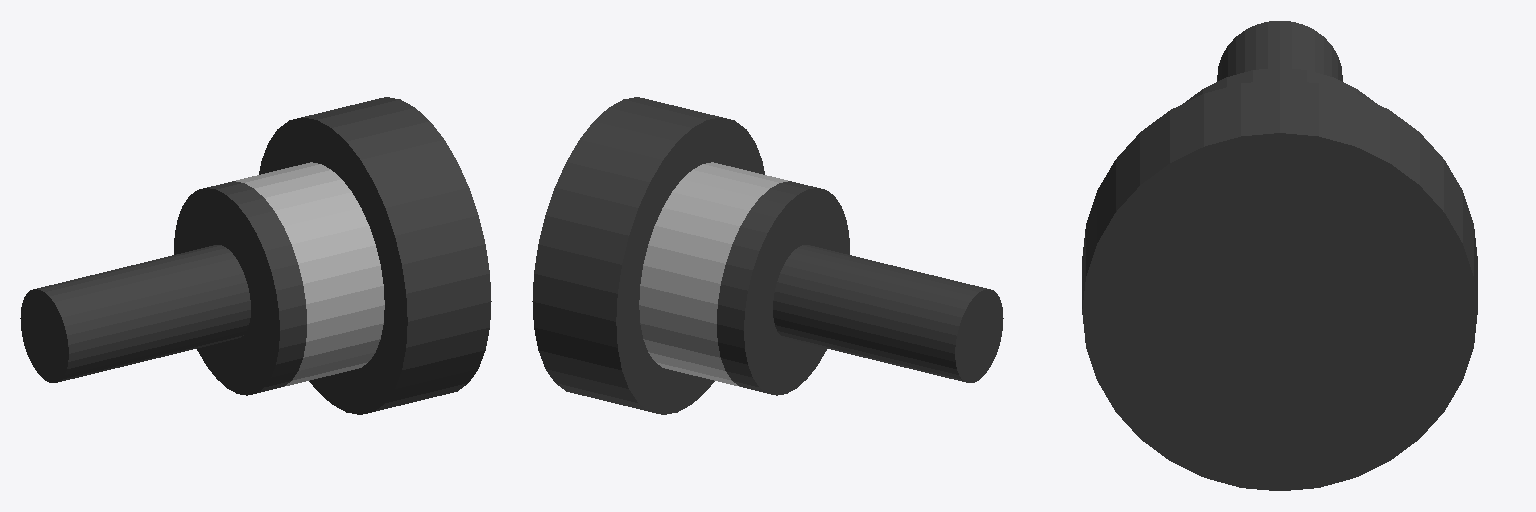
URDF robot description (panda):
<?xml version="1.0" ?>
<!-- =================================================================================== -->
<!-- |    This document was autogenerated by xacro from panda_arm_hand.urdf.xacro      | -->
<!-- |    EDITING THIS FILE BY HAND IS NOT RECOMMENDED                                 | -->
<!-- =================================================================================== -->
<robot name="panda" xmlns:xacro="http://www.ros.org/wiki/xacro">
  <link name="panda_link0">
  	<inertial>
      <origin rpy="0 0 0" xyz="0 0 0"/>
       <mass value="5.0"/>
       <inertia ixx="0.1" ixy="0" ixz="0" iyy="0.1" iyz="0" izz="0.1"/>
    </inertial>
    <visual>
      <geometry>
        <mesh filename="package://meshes/collision/link0.obj"/>
      </geometry>
      <material name="panda_white">
    		<color rgba="1. 1. 1. 1."/>
  		</material>
    </visual>
    <collision>
      <geometry>
        <mesh filename="package://meshes/collision/link0.obj"/>
      </geometry>
    </collision>
  </link>
  <link name="panda_link1">
  	<inertial>
      <origin rpy="0 0 0" xyz="0.00033 -0.02204 -0.04762"/>
       <mass value="2.7907"/>
       <inertia ixx="0.01564782655" ixy="0.00000531236" ixz="-0.00003676721" iyy="0.01439883526" iyz="-0.00248480843" izz="0.00500443991"/>
    </inertial>
    <visual>
      <geometry>
        <mesh filename="package://meshes/visual/link1.obj"/>
      </geometry>
      <material name="panda_white"/>
    </visual>
    <collision>
      <geometry>
        <mesh filename="package://meshes/collision/link1.obj"/>
      </geometry>
    </collision>
  </link>
  <link name="panda_link2">
  	<inertial>
      <origin rpy="0 0 0" xyz="0.00038 -0.09211 0.01908"/>
       <mass value="2.5420"/>
       <inertia ixx="0.01662427728" ixy="0.00003086077" ixz="0.00000835940" iyy="0.00462501261" iyz="0.00355899830" izz="0.01545124526"/>
    </inertial>
    <visual>
      <geometry>
        <mesh filename="package://meshes/visual/link2.obj"/>
      </geometry>
      <material name="panda_white"/>
    </visual>
    <collision>
      <geometry>
        <mesh filename="package://meshes/collision/link2.obj"/>
      </geometry>
    </collision>
  </link>
  <link name="panda_link3">
	  <inertial>
      <origin rpy="0 0 0" xyz="0.05152 0.01696 -0.02971"/>
       <mass value="2.2513"/>
       <inertia ixx="0.00631741992" ixy="0.00097309955" ixz="0.00292525834" iyy="0.00866285493" iyz="0.00093469224" izz="0.00657804051"/>
    </inertial>
    <visual>
      <geometry>
        <mesh filename="package://meshes/visual/link3.obj"/>
      </geometry>
      <material name="panda_red">
    		<color rgba="1. 1. 1. 1."/>
  		</material>
    </visual>
    <collision>
      <geometry>
        <mesh filename="package://meshes/collision/link3.obj"/>
      </geometry>
    </collision>
  </link>
  <link name="panda_link4">
  	<inertial>
      <origin rpy="0 0 0" xyz="-0.05113 0.05825 0.01698"/>
       <mass value="2.2037"/>
       <inertia ixx="0.0156" ixy="-0.0" ixz="0.0" iyy="0.01439" iyz="-0.0024" izz="0.005"/>
    </inertial>
    <visual>
      <geometry>
        <mesh filename="package://meshes/visual/link4.obj"/>
      </geometry>
      <material name="panda_white"/>
    </visual>
    <collision>
      <geometry>
        <mesh filename="package://meshes/collision/link4.obj"/>
      </geometry>
    </collision>
  </link>
  <link name="panda_link5">
  	<inertial>
      <origin rpy="0 0 0" xyz="-0.00005 0.03730 -0.09280"/>
       <mass value="2.2855"/>
       <inertia ixx="0.02297014781" ixy="-0.00000949345" ixz="-0.00002063156" iyy="0.02095060919" iyz="0.00382345782" izz="0.00430606551"/>
    </inertial>
    <visual>
      <geometry>
        <mesh filename="package://meshes/visual/link5.obj"/>
      </geometry>
      <material name="panda_white"/>
    </visual>
    <!--
    <collision>
      <geometry>
        <mesh filename="package://meshes/collision/link5.obj"/>
      </geometry>
    </collision>
    -->
    <collision>
      <origin rpy="0.0 0.0 0.0" xyz="0.0 0.0 -0.22"/>
      <geometry>
        <cylinder length="0.07" radius="0.055"/>
      </geometry>
    </collision>
    <collision>
      <origin rpy="-1.57079632 0.0 0.0" xyz="0.0 0.06 0"/>
      <geometry>
        <cylinder length="0.08" radius="0.05"/>
      </geometry>
    </collision>
    <collision>
      <origin rpy="-1.57079632 0.0 0.0" xyz="0.0 0.06 0"/>
      <geometry>
        <cylinder length="0.08" radius="0.05"/>
      </geometry>
    </collision>
    <collision>
      <origin rpy="0.0 0.0 0.0" xyz="0.01 0.08 -0.14"/>
      <geometry>
        <sphere radius="0.022"/>
      </geometry>
    </collision>
    <collision>
      <origin rpy="0.0 0.0 0.0" xyz="0.01 0.085 -0.11"/>
      <geometry>
        <sphere radius="0.022"/>
      </geometry>
    </collision>
    <collision>
      <origin rpy="0.0 0.0 0.0" xyz="0.01 0.09 -0.08"/>
      <geometry>
        <sphere radius="0.022"/>
      </geometry>
    </collision>
    <collision>
      <origin rpy="0.0 0.0 0.0" xyz="0.01 0.095 -0.05"/>
      <geometry>
        <sphere radius="0.022"/>
      </geometry>
    </collision>
    <collision>
      <origin rpy="0.0 0.0 0.0" xyz="-0.01 0.08 -0.14"/>
      <geometry>
        <sphere radius="0.022"/>
      </geometry>
    </collision>
    <collision>
      <origin rpy="0.0 0.0 0.0" xyz="-0.01 0.085 -0.11"/>
      <geometry>
        <sphere radius="0.022"/>
      </geometry>
    </collision>
    <collision>
      <origin rpy="0.0 0.0 0.0" xyz="-0.01 0.09 -0.08"/>
      <geometry>
        <sphere radius="0.022"/>
      </geometry>
    </collision>
    <collision>
      <origin rpy="0.0 0.0 0.0" xyz="-0.01 0.095 -0.05"/>
      <geometry>
        <sphere radius="0.022"/>
      </geometry>
    </collision>

  </link>

  <link name="panda_link6">
  	<inertial>
      <origin rpy="0 0 0" xyz="0.06572 -0.00371 0.00153"/>
       <mass value="1.353"/>
       <inertia ixx="0.00087964522" ixy="-0.00021487814" ixz="-0.00011911662" iyy="0.00277796968" iyz="0.00001274322" izz="0.00286701969"/>
    </inertial>
    <visual>
      <geometry>
        <mesh filename="package://meshes/visual/link6.obj"/>
      </geometry>
      <material name="panda_white"/>
    </visual>
    <collision>
      <geometry>
        <mesh filename="package://meshes/collision/link6.obj"/>
      </geometry>
    </collision>
  </link>

  <link name="panda_link7">
  	<inertial>
      <origin rpy="0 0 0" xyz="0.00089 -0.00044 0.05491"/>
       <mass value="0.35973"/>
       <inertia ixx="0.00019541063" ixy="0.00000165231" ixz="0.00000148826" iyy="0.00019210361" iyz="-0.00000131132" izz="0.00017936256"/>
    </inertial>
    <visual>
      <geometry>
        <mesh filename="package://meshes/collision/link7.obj"/>
      </geometry>
      <material name="panda_white"/>
    </visual>
    <collision>
      <geometry>
        <mesh filename="package://meshes/collision/link7.obj"/>
      </geometry>
    </collision>
  </link>

  <link name="panda_flange">
    <inertial>
      <origin rpy="0 0 0" xyz="0 0 0"/>
       <mass value="0"/>
       <inertia ixx="0.0" ixy="0.0" ixz="0.0" iyy="0.0" iyz="0.0" izz="0.0"/>
    </inertial>
  </link>

  <joint name="panda_joint1" type="revolute">
    <safety_controller k_position="100.0" k_velocity="40.0" soft_lower_limit="-2.8973" soft_upper_limit="2.8973"/>
    <origin rpy="0 0 0" xyz="0 0 0.333"/>
    <parent link="panda_link0"/>
    <child link="panda_link1"/>
    <axis xyz="0 0 1"/>
    <limit effort="87" lower="-2.8973" upper="2.8973" velocity="2.1750"/>
  </joint>
  <joint name="panda_joint2" type="revolute">
    <safety_controller k_position="100.0" k_velocity="40.0" soft_lower_limit="-1.7628" soft_upper_limit="1.7628"/>
    <origin rpy="-1.57079632679 0 0" xyz="0 0 0"/>
    <parent link="panda_link1"/>
    <child link="panda_link2"/>
    <axis xyz="0 0 1"/>
    <limit effort="87" lower="-1.7628" upper="1.7628" velocity="2.1750"/>
  </joint>
  <joint name="panda_joint3" type="revolute">
    <safety_controller k_position="100.0" k_velocity="40.0" soft_lower_limit="-2.8973" soft_upper_limit="2.8973"/>
    <origin rpy="1.57079632679 0 0" xyz="0 -0.316 0"/>
    <parent link="panda_link2"/>
    <child link="panda_link3"/>
    <axis xyz="0 0 1"/>
    <limit effort="87" lower="-2.8973" upper="2.8973" velocity="2.1750"/>
  </joint>
  <joint name="panda_joint4" type="revolute">
    <safety_controller k_position="100.0" k_velocity="40.0" soft_lower_limit="-3.0718" soft_upper_limit="-0.0698"/>
    <origin rpy="1.57079632679 0 0" xyz="0.0825 0 0"/>
    <parent link="panda_link3"/>
    <child link="panda_link4"/>
    <axis xyz="0 0 1"/>
    <limit effort="87" lower="-3.0718" upper="-0.0698" velocity="2.1750"/>
  </joint>
  <joint name="panda_joint5" type="revolute">
    <safety_controller k_position="100.0" k_velocity="40.0" soft_lower_limit="-2.8973" soft_upper_limit="2.8973"/>
    <origin rpy="-1.57079632679 0 0" xyz="-0.0825 0.384 0"/>
    <parent link="panda_link4"/>
    <child link="panda_link5"/>
    <axis xyz="0 0 1"/>
    <limit effort="12" lower="-2.8973" upper="2.8973" velocity="2.6100"/>
  </joint>
  <joint name="panda_joint6" type="revolute">
    <safety_controller k_position="100.0" k_velocity="40.0" soft_lower_limit="-0.0175" soft_upper_limit="3.7525"/>
    <origin rpy="1.57079632679 0 0" xyz="0 0 0"/>
    <parent link="panda_link5"/>
    <child link="panda_link6"/>
    <axis xyz="0 0 1"/>
    <limit effort="12" lower="-0.0175" upper="3.7525" velocity="2.6100"/>
  </joint>
  <joint name="panda_joint7" type="revolute">
    <safety_controller k_position="100.0" k_velocity="40.0" soft_lower_limit="-2.8973" soft_upper_limit="2.8973"/>
    <origin rpy="1.57079632679 0 0" xyz="0.088 0 0"/>
    <parent link="panda_link6"/>
    <child link="panda_link7"/>
    <axis xyz="0 0 1"/>
    <limit effort="12" lower="-2.8973" upper="2.8973" velocity="2.6100"/>
  </joint>

  <joint name="panda_joint8" type="fixed">
    <origin rpy="0 0 0" xyz="0 0 0.1070"/>
    <parent link="panda_link7"/>
    <child link="panda_flange"/>
  </joint>
  
  <!-- End effector -->
  
  <link name="panda_flange_tool">
  	 <inertial>
      <origin rpy="0 0 0" xyz="0 0 0"/>
       <mass value="0.01"/>
       <inertia ixx="1e-5" ixy="0" ixz="0" iyy="1e-5" iyz="0" izz="1e-5"/>
    </inertial>
    <visual>
      <origin rpy="0.0 0.0 0.0" xyz="0.0 0.0 0.01"/>
      <geometry>
        <cylinder length="0.02" radius="0.0315"/>
      </geometry>
      <material name="panda_grey">
        <color rgba="0.3 0.3 0.3 1."/>
      </material>
    </visual>
    <collision>
      <origin rpy="0.0 0.0 0.0" xyz="0.0 0.0 0.01"/>
      <geometry>
        <cylinder length="0.02" radius="0.0315"/>
      </geometry>
    </collision>
  </link>

  <link name="panda_rft44">
  	 <inertial>
      <origin rpy="0 0 0" xyz="0 0 0"/>
       <mass value="0.01"/>
       <inertia ixx="1e-5" ixy="0" ixz="0" iyy="1e-5" iyz="0" izz="1e-5"/>
    </inertial>
    <visual>
      <origin rpy="0.0 0.0 0.0" xyz="0.0 0.0 0.00925"/>
      <geometry>
        <cylinder length="0.0185" radius="0.022"/>
      </geometry>
      <material name="panda_grey">
        <color rgba="0.7 0.7 0.7 1."/>
      </material>
    </visual>
    <collision>
      <origin rpy="0.0 0.0 0.0" xyz="0.0 0.0 0.00925"/>
      <geometry>
        <cylinder length="0.0185" radius="0.022"/>
      </geometry>
    </collision>
  </link>

  <link name="panda_stick">
  	 <inertial>
      <origin rpy="0 0 0" xyz="0 0 0"/>
       <mass value="0.01"/>
       <inertia ixx="1e-5" ixy="0" ixz="0" iyy="1e-5" iyz="0" izz="1e-5"/>
    </inertial>
    <visual>
      <origin rpy="0.0 0.0 0.0" xyz="0.0 0.0 0.00325"/>
      <geometry>
        <cylinder length="0.0065" radius="0.022"/>
      </geometry>
      <material name="panda_grey">
        <color rgba="0.3 0.3 0.3 1."/>
      </material>
    </visual>
    <visual>
      <origin rpy="0.0 0.0 0.0" xyz="0.0 0.0 0.025"/>
      <geometry>
        <cylinder length="0.05" radius="0.01"/>
      </geometry>
      <material name="panda_grey">
        <color rgba="0.3 0.3 0.3 1."/>
      </material>
    </visual>
    <collision>
      <origin rpy="0.0 0.0 0.0" xyz="0.0 0.0 0.025"/>
      <geometry>
        <cylinder length="0.05" radius="0.01"/>
      </geometry>
    </collision>
  </link>

  <link name="panda_ee">
  	 <inertial>
      <origin rpy="0 0 0" xyz="0 0 0"/>
       <mass value="0.01"/>
       <inertia ixx="1e-5" ixy="0" ixz="0" iyy="1e-5" iyz="0" izz="1e-5"/>
    </inertial>
  </link>
  
  <joint name="panda_joint9" type="fixed">
    <origin rpy="0 0 0" xyz="0 0 0"/>
    <parent link="panda_flange"/>
    <child link="panda_flange_tool"/>
    <axis xyz="0 0 0"/>
  </joint>

  <joint name="panda_joint10" type="fixed">
    <origin rpy="0 0 0" xyz="0 0 0.02"/>
    <parent link="panda_flange_tool"/>
    <child link="panda_rft44"/>
    <axis xyz="0 0 0"/>
  </joint>

  <joint name="panda_joint11" type="fixed">
    <origin rpy="0 0 0" xyz="0 0 0.0185"/>
    <parent link="panda_rft44"/>
    <child link="panda_stick"/>
    <axis xyz="0 0 0"/>
  </joint>

  <joint name="panda_joint12" type="fixed">
    <origin rpy="0 0 0" xyz="0 0 0.05"/>
    <parent link="panda_stick"/>
    <child link="panda_ee"/>
    <axis xyz="0 0 0"/>
  </joint>

</robot>

--- What the picture shows (computed from the rendered views, not written in the file) ---
The picture shows the robot from 3 angles, left to right: view 1: azimuth 30°, elevation 25°; view 2: azimuth 150°, elevation 25°; view 3: azimuth 270°, elevation 25°; orthographic projection.
Robot: panda — 13 links, 12 joints (7 revolute, 5 fixed); root link panda_link0; default pose: joints at zero except 1 at the middle of their limits (panda_joint4 = -1.57).
Links seen in each view (by area): view 1: panda_flange_tool, panda_stick, panda_rft44; view 2: panda_flange_tool, panda_stick, panda_rft44; view 3: panda_flange_tool, panda_stick.
Boxes of the visible links, x1,y1,x2,y2 form: panda_flange_tool: (259, 97, 491, 414); panda_stick: (20, 181, 306, 395); panda_rft44: (236, 162, 384, 386); panda_flange_tool: (532, 97, 764, 414); panda_stick: (717, 181, 1003, 395); panda_rft44: (639, 162, 787, 386); panda_flange_tool: (1082, 80, 1477, 490); panda_stick: (1183, 21, 1376, 103).
Bounding box of the posed robot: 0.0885 × 0.063 × 0.063 m (x, y, z).
0 mesh visuals loaded from 8 distinct referenced files (none loaded); not drawn: 8 (reference not matched to a file when rendering).